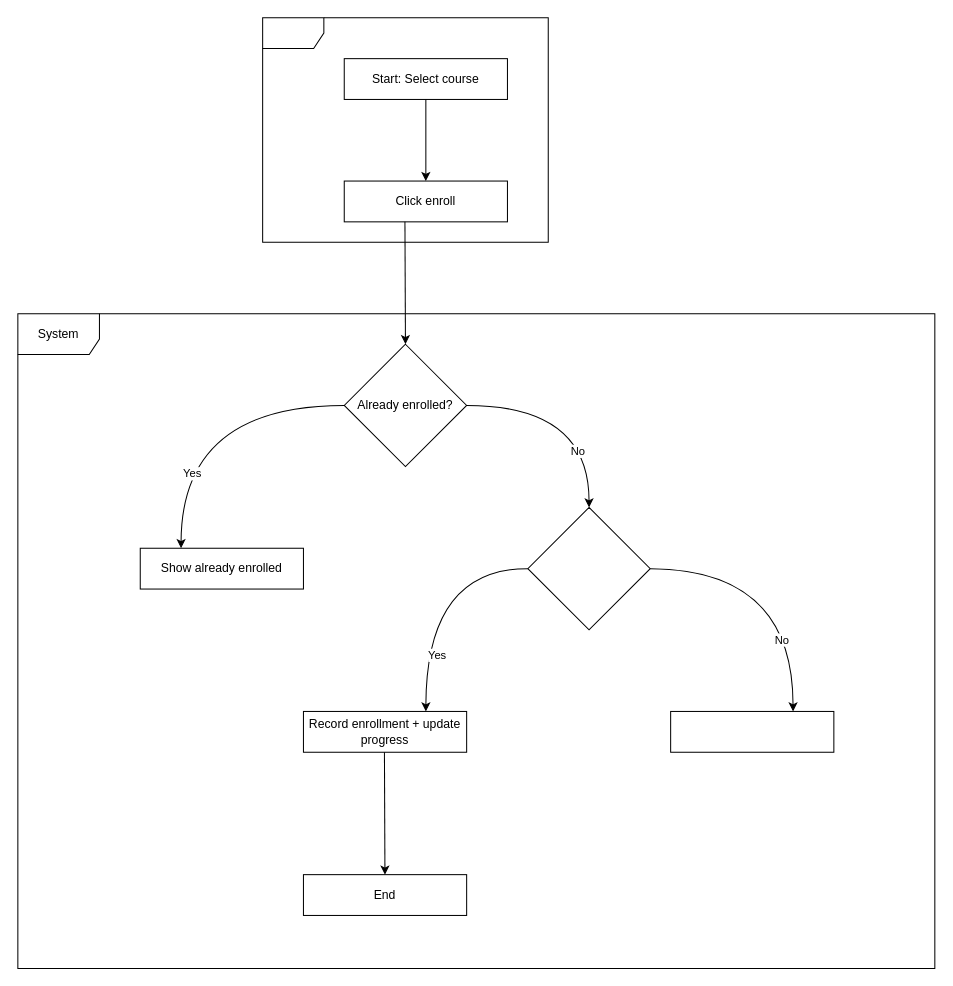
This 953x986 diagram has some shape labels left out. Here are the shapes that lost their labels. From the top down, the centre of each, then its label:
point (405, 129): Student
point (588, 568): Course available?
point (752, 731): Show full/waitlist
